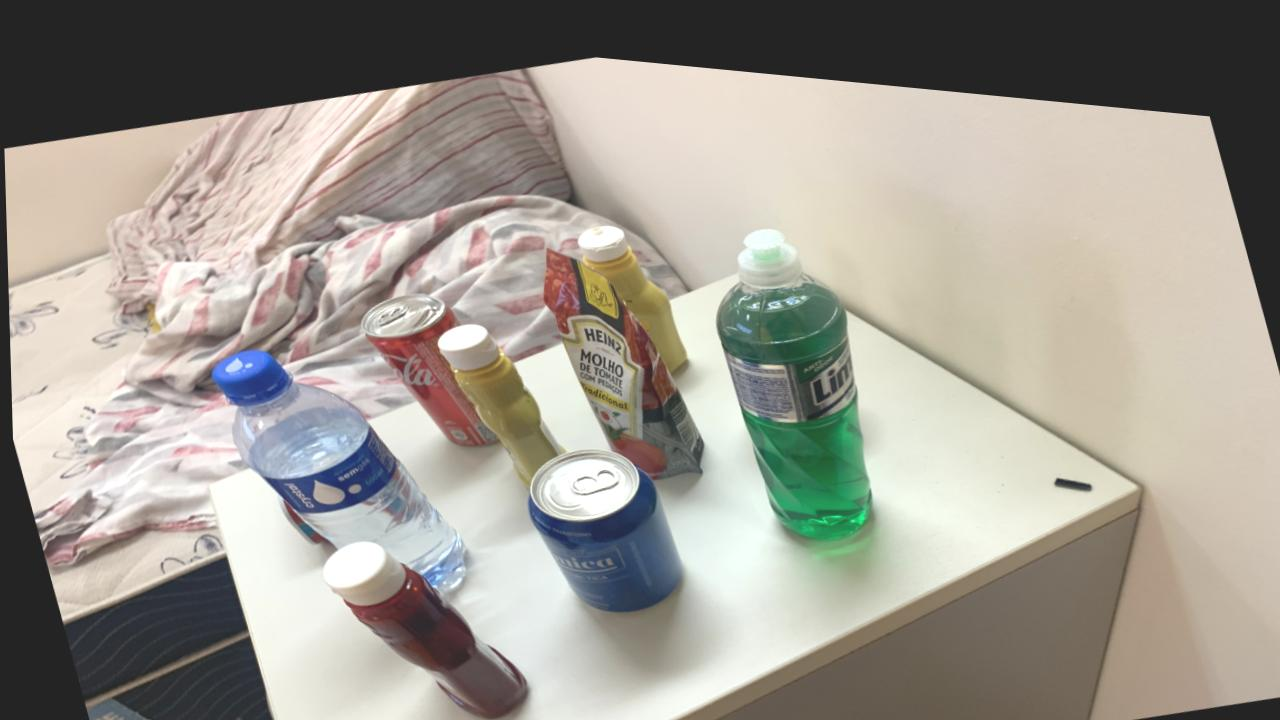Coke-Drinks: (359, 285, 495, 437)
Detergent-Cleanup_Items: (715, 213, 870, 522)
Ketchup-Pantry_Items: (319, 534, 524, 709)
Mustard-Pantry_Items: (436, 315, 563, 476), (577, 213, 686, 358)
Tomato_Sauce-Pantry_Items: (541, 238, 702, 466)
Tonic-Drinks: (525, 437, 680, 600)
Water_Bottle-Drinks: (209, 344, 462, 582)
